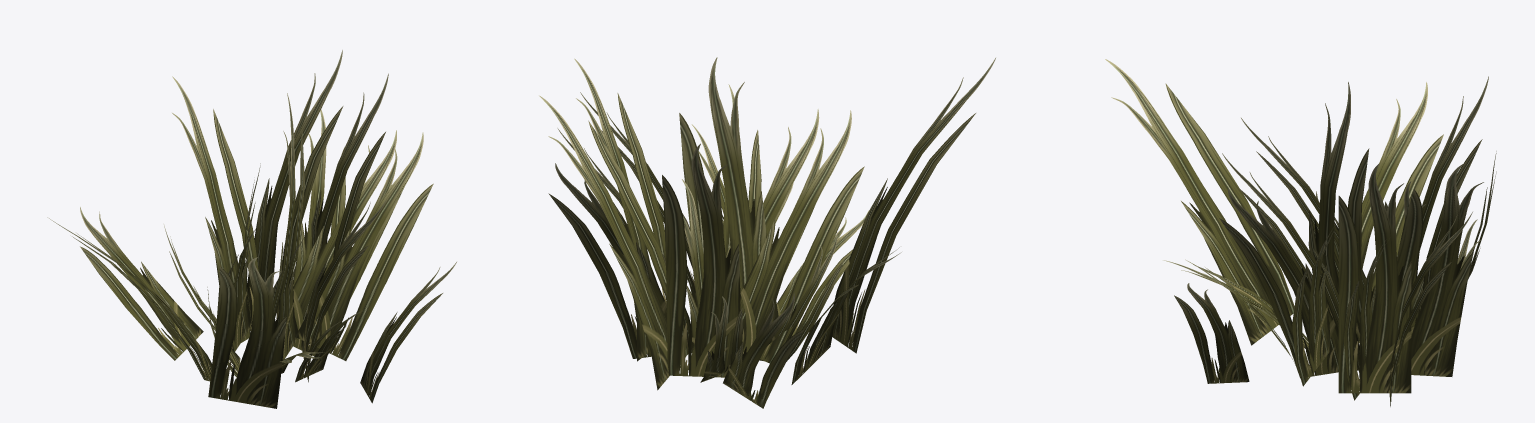
The model's file is Grass2.fbx.
3 renders of one model, left to right at view 1: azimuth 30°, elevation 25°; view 2: azimuth 150°, elevation 25°; view 3: azimuth 270°, elevation 25°, orthographic. The views are drawn at different scales.
Parts seen in each view (by area): view 1: Grass.018; view 2: Grass.018; view 3: Grass.018.
Boxes of the visible parts, x1,y1,x2,y2 form: Grass.018: [47, 50, 456, 408]; Grass.018: [539, 57, 995, 408]; Grass.018: [1105, 59, 1496, 406].
Bounding box in the file's own units: 0.8276 × 0.6253 × 0.7772.
